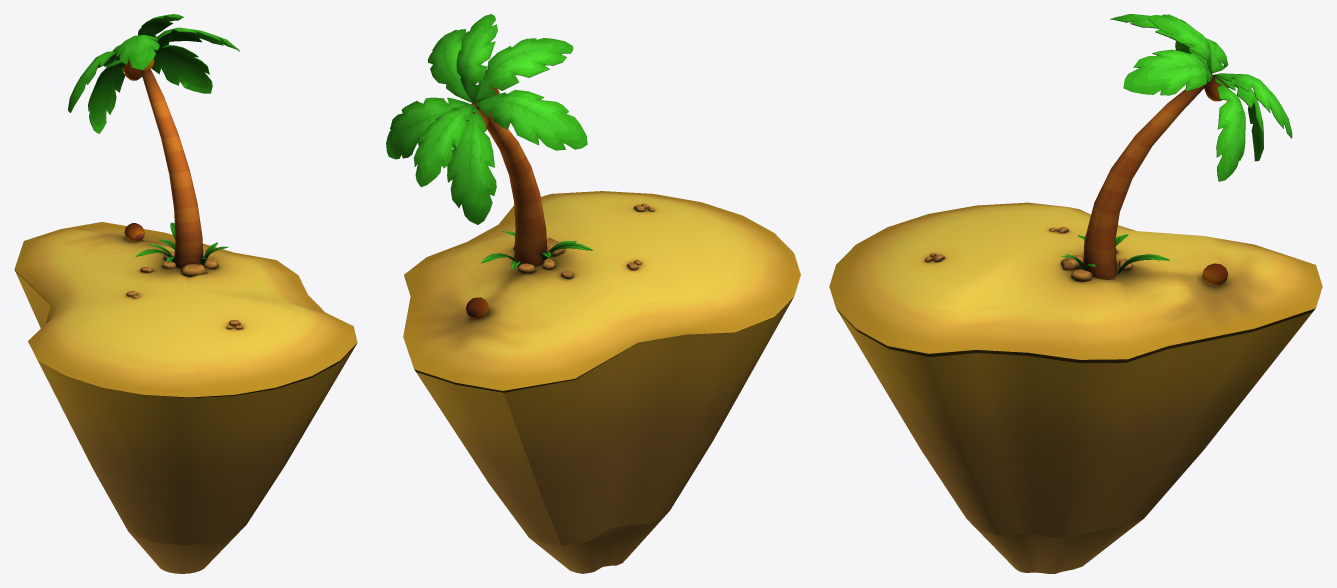
Rendered from island.fbx.
3 views of the same model, side by side, from view 1: azimuth 30°, elevation 25°; view 2: azimuth 150°, elevation 25°; view 3: azimuth 270°, elevation 25° (orthographic). The views are drawn at different scales.
Parts seen in each view (by area): view 1: island, tree, leaf1, leaf0, leaf3, leaf2, leaf, leaf5; view 2: island, leaf, tree, leaf0, leaf3, leaf4, leaf1, leaf5, leaf2; view 3: island, tree, leaf2, leaf1, leaf5, leaf4, leaf0.
Boxes of the visible parts, x1=… form: island: x1=14, y1=222, x2=357, y2=573; tree: x1=140, y1=68, x2=203, y2=269; leaf1: x1=151, y1=44, x2=212, y2=93; leaf0: x1=88, y1=60, x2=125, y2=133; leaf3: x1=116, y1=35, x2=159, y2=70; leaf2: x1=154, y1=27, x2=239, y2=51; leaf: x1=68, y1=51, x2=120, y2=112; leaf5: x1=138, y1=14, x2=183, y2=37; island: x1=403, y1=191, x2=800, y2=573; leaf: x1=475, y1=90, x2=587, y2=150; tree: x1=471, y1=101, x2=547, y2=266; leaf0: x1=447, y1=105, x2=496, y2=224; leaf3: x1=474, y1=38, x2=573, y2=102; leaf4: x1=413, y1=105, x2=473, y2=186; leaf1: x1=386, y1=97, x2=472, y2=159; leaf5: x1=456, y1=14, x2=497, y2=102; leaf2: x1=428, y1=29, x2=472, y2=103; island: x1=829, y1=202, x2=1322, y2=573; tree: x1=1083, y1=74, x2=1213, y2=279; leaf2: x1=1123, y1=49, x2=1212, y2=95; leaf1: x1=1213, y1=76, x2=1245, y2=181; leaf5: x1=1148, y1=14, x2=1211, y2=74; leaf4: x1=1213, y1=73, x2=1292, y2=138; leaf0: x1=1212, y1=74, x2=1263, y2=161.
Size of the model in its own units: 54.49 by 93.6 by 72.23.
1 material, 1 textured.
